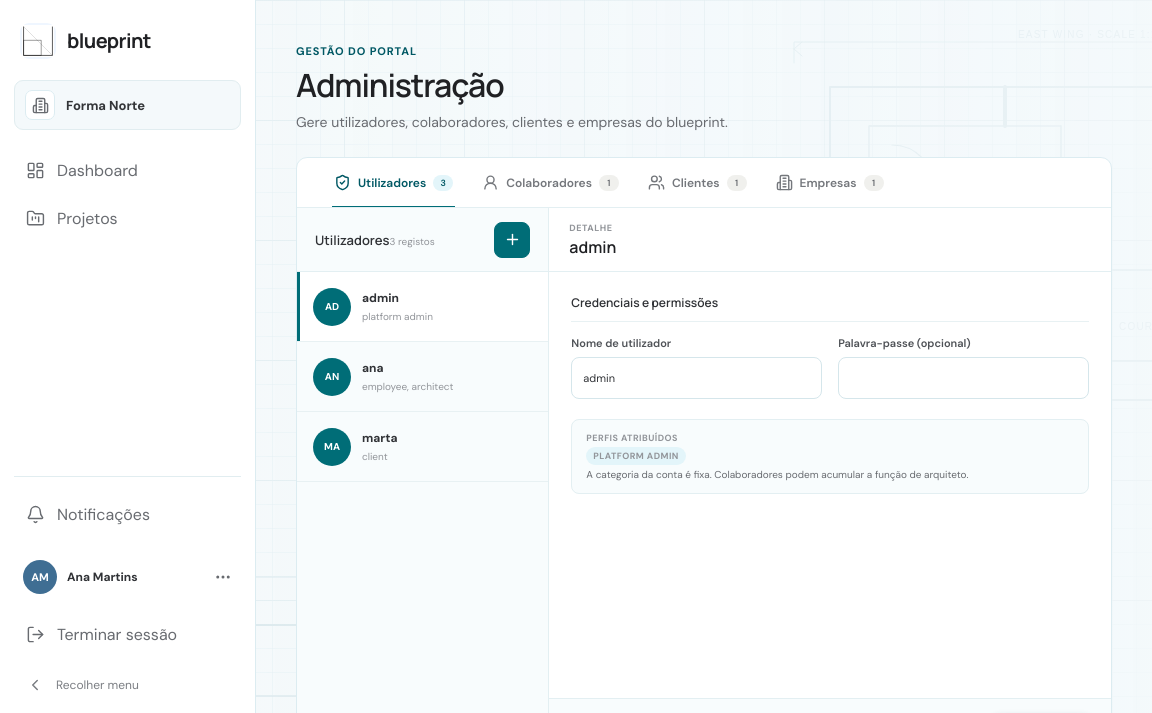
Test: AdministrationPage › maps backend field errors and protects dirty forms
The width and height of the screenshot is (1152, 713).
Type "-editado" into the field labelled "Nome de utilizador".
click(697, 378); type("-editado")  # box 571,357 -> 822,399
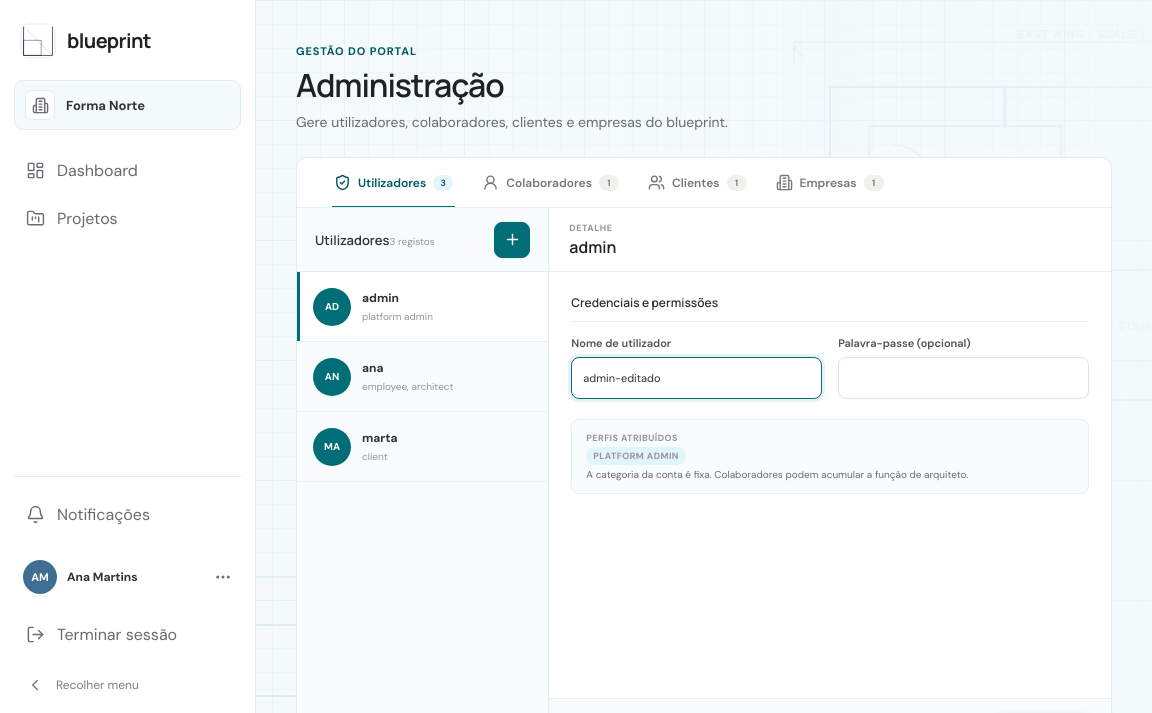
Click the tab "Clientes 1".
click(697, 182)  # box 635,158 -> 760,207
(page scrolled)
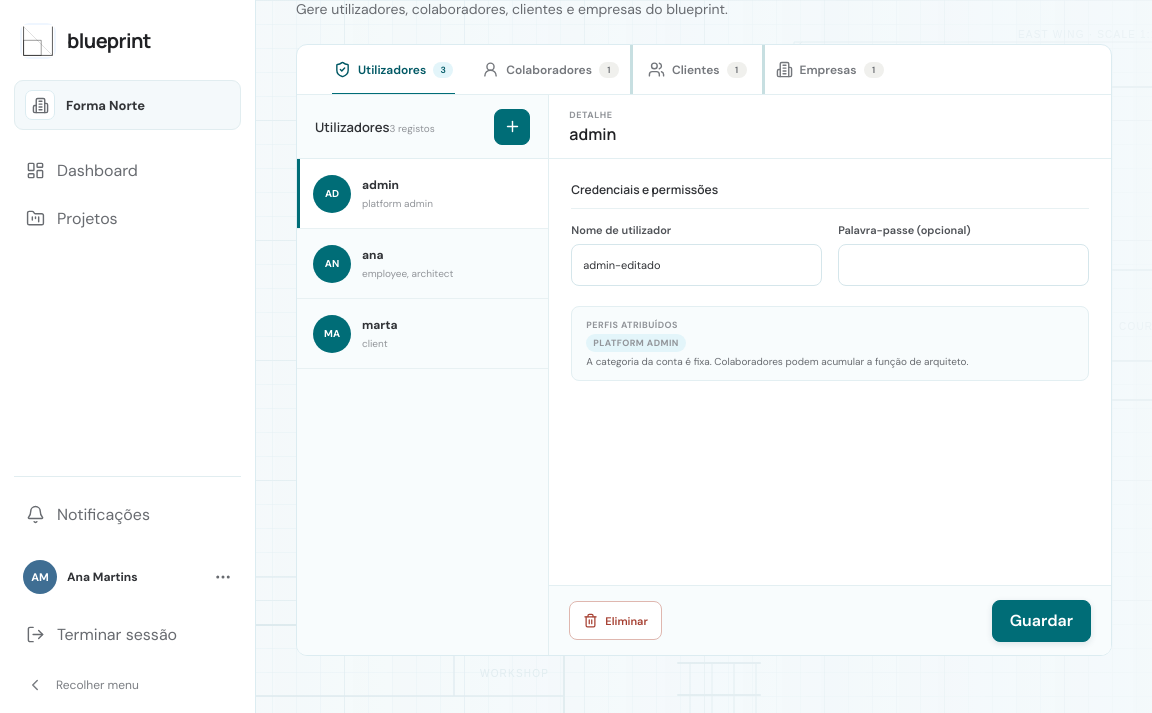
Click the button "Guardar".
click(1041, 620)  # box 992,600 -> 1091,642
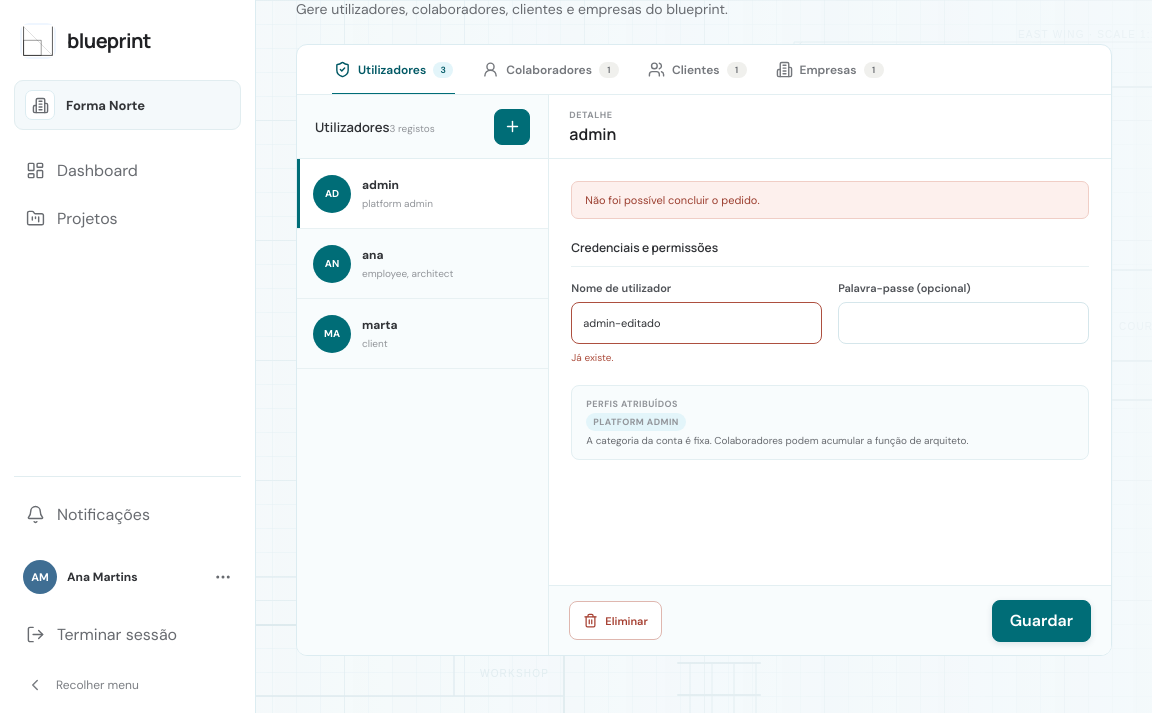
Now the text "Já existe." is shown, box 571,351 -> 614,364
